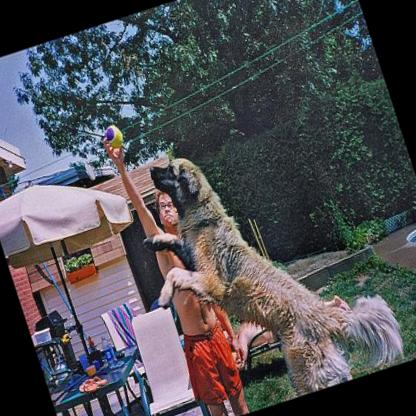Leonberg: (117, 106, 411, 416)
